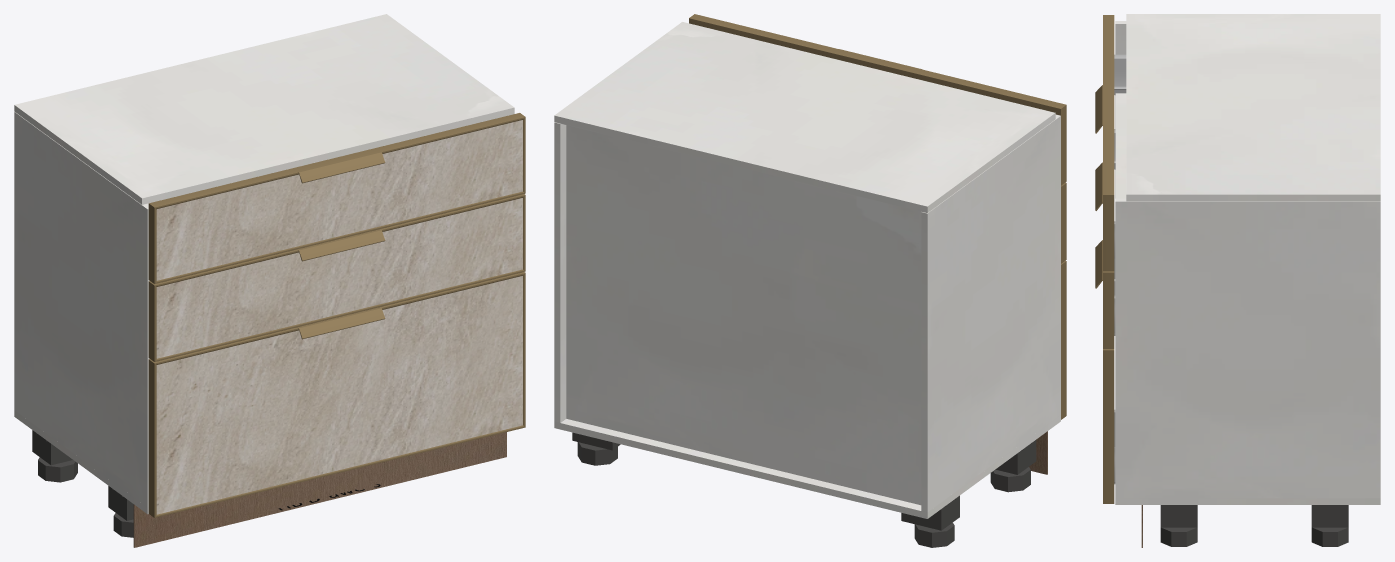
The model's file is BC-DW-TTS-ST-2LB-1HB-XXX-900-720-560-15.glb.
3 renders of one model, left to right at view 1: azimuth 30°, elevation 25°; view 2: azimuth 150°, elevation 25°; view 3: azimuth 270°, elevation 25°, orthographic.
Parts seen in each view (by area): view 1: Object_node, TP_node_8, TP_node_6, Object_node_1, Object_node_3, Object_node_86, ExtrSplGeo_node_0, Extrusion_node_4, Extrusion_node_10, Extrusion_node_3, Extrusion_node_17, Extrusion_node_15 (+10 smaller); view 2: TP, TP_node_8, TP_node_6, TP_node_5, TP_node_7, Extrusion_node_14, Extrusion_node_15, ExtrSplGeo_node_0, Extrusion_node_4, Plate, Foot, Foot_node_0 (+2 smaller); view 3: TP_node_7, TP_node_8, TP_node_5, Extrusion_node_2, TP_node_3, Extrusion_node_9, Extrusion_node_16, Plate_node, Plate_node_1, Extrusion_node_14, Extrusion_node_15, ExtrSplGeo_node_0 (+4 smaller).
Boxes of the visible parts, x1=… form: Object_node: x1=156, y1=276, x2=522, y2=514; TP_node_8: x1=14, y1=14, x2=514, y2=204; TP_node_6: x1=14, y1=111, x2=149, y2=507; Object_node_1: x1=156, y1=198, x2=522, y2=358; Object_node_3: x1=156, y1=120, x2=522, y2=280; Object_node_86: x1=133, y1=432, x2=506, y2=547; ExtrSplGeo_node_0: x1=293, y1=148, x2=385, y2=183; Extrusion_node_4: x1=148, y1=359, x2=156, y2=517; Extrusion_node_10: x1=155, y1=269, x2=525, y2=361; Extrusion_node_3: x1=155, y1=425, x2=525, y2=517; Extrusion_node_17: x1=155, y1=191, x2=525, y2=283; Extrusion_node_15: x1=149, y1=168, x2=298, y2=209; TP: x1=566, y1=125, x2=921, y2=505; TP_node_8: x1=554, y1=22, x2=1055, y2=212; TP_node_6: x1=921, y1=114, x2=1060, y2=512; TP_node_5: x1=554, y1=415, x2=1060, y2=518; TP_node_7: x1=554, y1=122, x2=566, y2=422; Extrusion_node_14: x1=689, y1=14, x2=838, y2=58; Extrusion_node_15: x1=916, y1=69, x2=1066, y2=112; ExtrSplGeo_node_0: x1=833, y1=49, x2=922, y2=78; Extrusion_node_4: x1=1061, y1=261, x2=1066, y2=419; Plate: x1=901, y1=496, x2=959, y2=530; Foot: x1=914, y1=522, x2=954, y2=547; Foot_node_0: x1=990, y1=467, x2=1030, y2=492; TP_node_7: x1=1115, y1=198, x2=1380, y2=498; TP_node_8: x1=1126, y1=14, x2=1380, y2=201; TP_node_5: x1=1115, y1=498, x2=1380, y2=504; Extrusion_node_2: x1=1103, y1=350, x2=1114, y2=503; TP_node_3: x1=1115, y1=93, x2=1126, y2=198; Extrusion_node_9: x1=1103, y1=272, x2=1114, y2=348; Extrusion_node_16: x1=1103, y1=195, x2=1114, y2=271; Plate_node: x1=1311, y1=505, x2=1348, y2=527; Plate_node_1: x1=1160, y1=505, x2=1197, y2=527; Extrusion_node_14: x1=1103, y1=125, x2=1114, y2=194; Extrusion_node_15: x1=1103, y1=15, x2=1114, y2=84; ExtrSplGeo_node_0: x1=1095, y1=85, x2=1114, y2=133.
Size of what is drawn, in the model's own units: 0.9 by 0.82 by 0.6.
7 materials, 3 textured.
